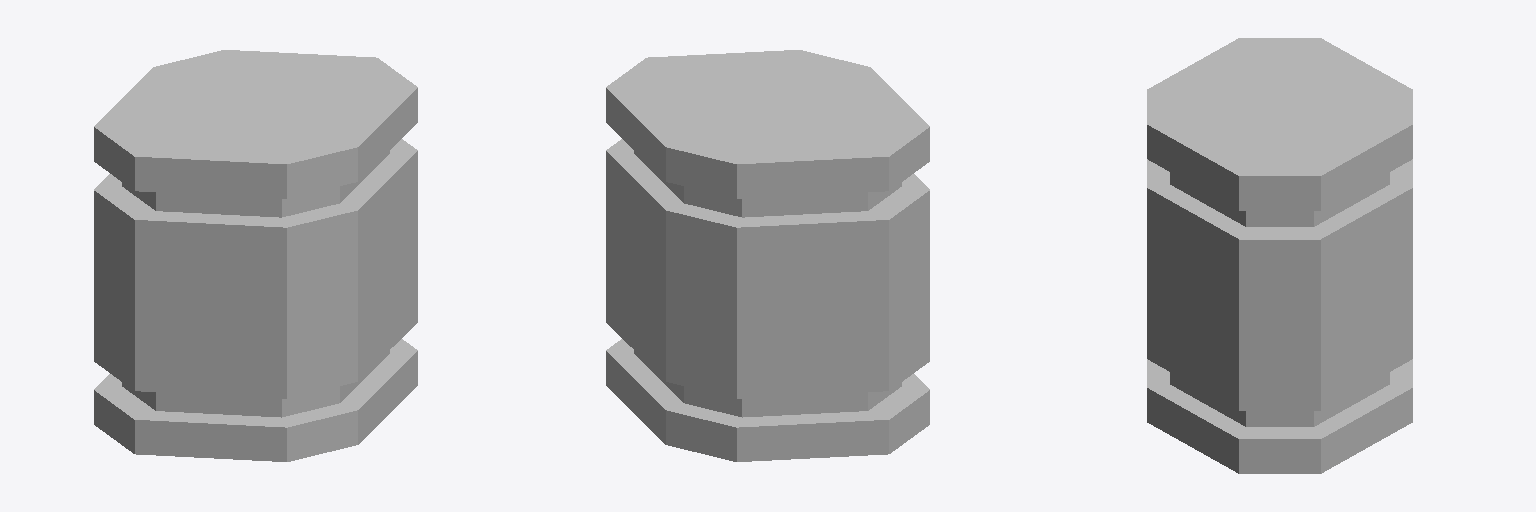
The model's file is factory.obj.
3 views of the same model, side by side, from view 1: azimuth 30°, elevation 25°; view 2: azimuth 150°, elevation 25°; view 3: azimuth 270°, elevation 25° (orthographic).
Parts seen in each view (by area): view 1: Cylinder; view 2: Cylinder; view 3: Cylinder.
Part boxes in pixels (bbox=[...]): Cylinder: bbox=[94, 50, 417, 461]; Cylinder: bbox=[606, 50, 929, 461]; Cylinder: bbox=[1147, 38, 1412, 473].
Bounding box in the file's own units: 4 × 4.01 × 3.25.